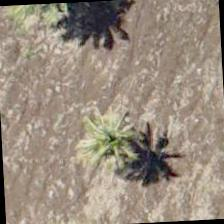Kelapa_Sawit: (59, 91, 154, 186)
